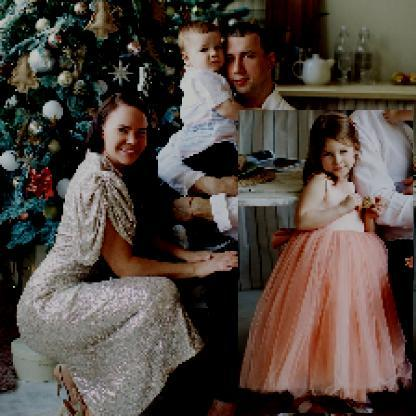child: (239, 111, 415, 415), (170, 23, 271, 251)
